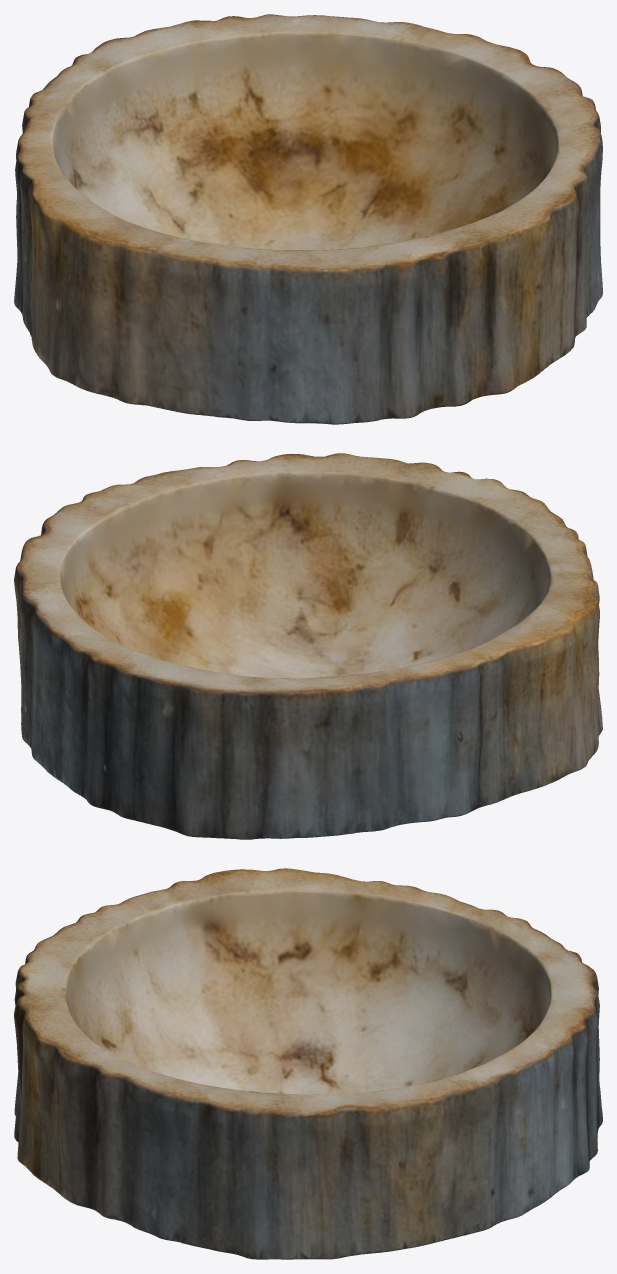
The model's file is sink-regular.glb.
The picture shows the model from 3 angles, top to bottom: view 1: azimuth 30°, elevation 25°; view 2: azimuth 150°, elevation 25°; view 3: azimuth 270°, elevation 25°; orthographic projection. The views are drawn at different scales.
Visible parts, largest first — view 1: node_0; view 2: node_0; view 3: node_0.
Boxes of the visible parts, box(x1,y1,x2,y2) form: node_0: box(14, 14, 602, 424); node_0: box(14, 453, 602, 839); node_0: box(14, 868, 602, 1259).
Size of the model in its own units: 1.15 by 0.3249 by 1.14.
1 material, 1 textured.
